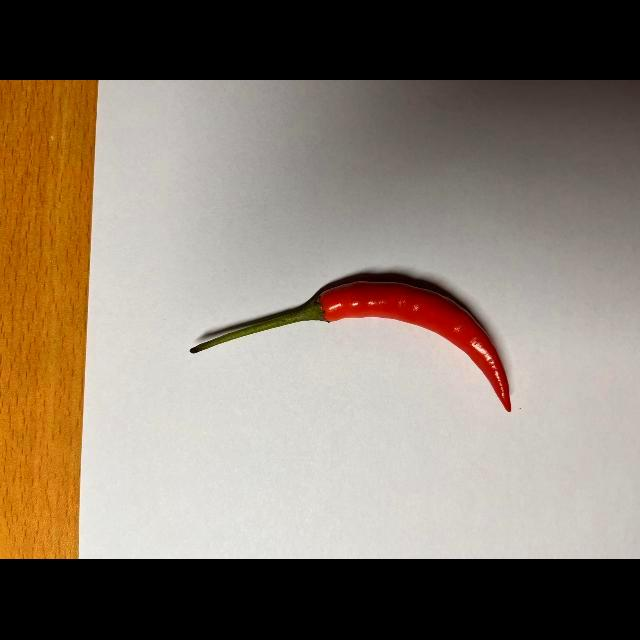chili_pepper: (173, 268, 525, 422)
